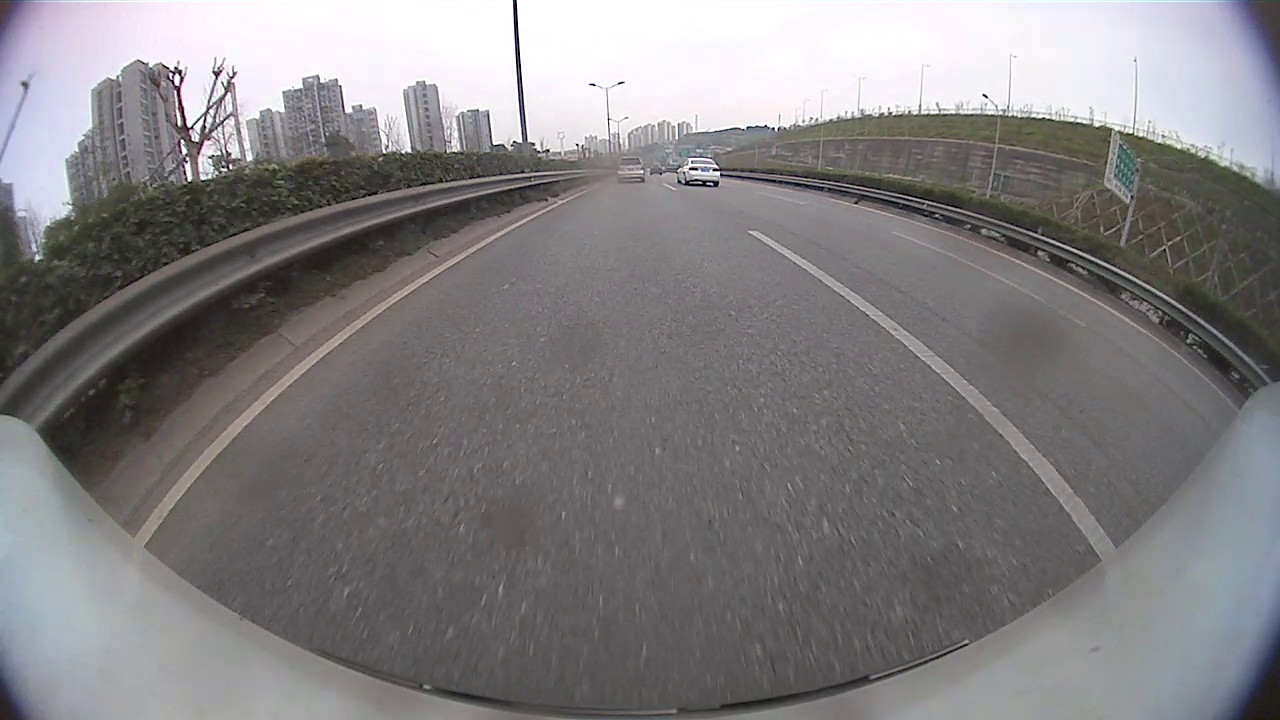car: (675, 156, 721, 187), (615, 154, 646, 181)
